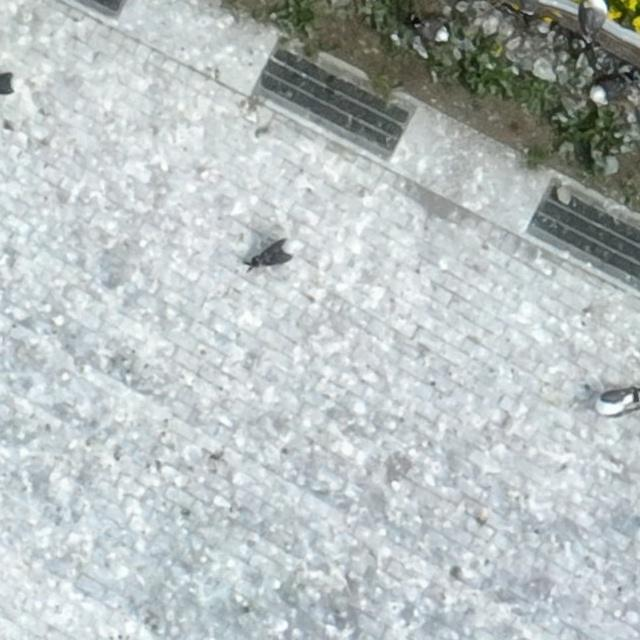umineko: (595, 384, 639, 418), (576, 1, 608, 44), (592, 80, 628, 102), (256, 244, 293, 264)
